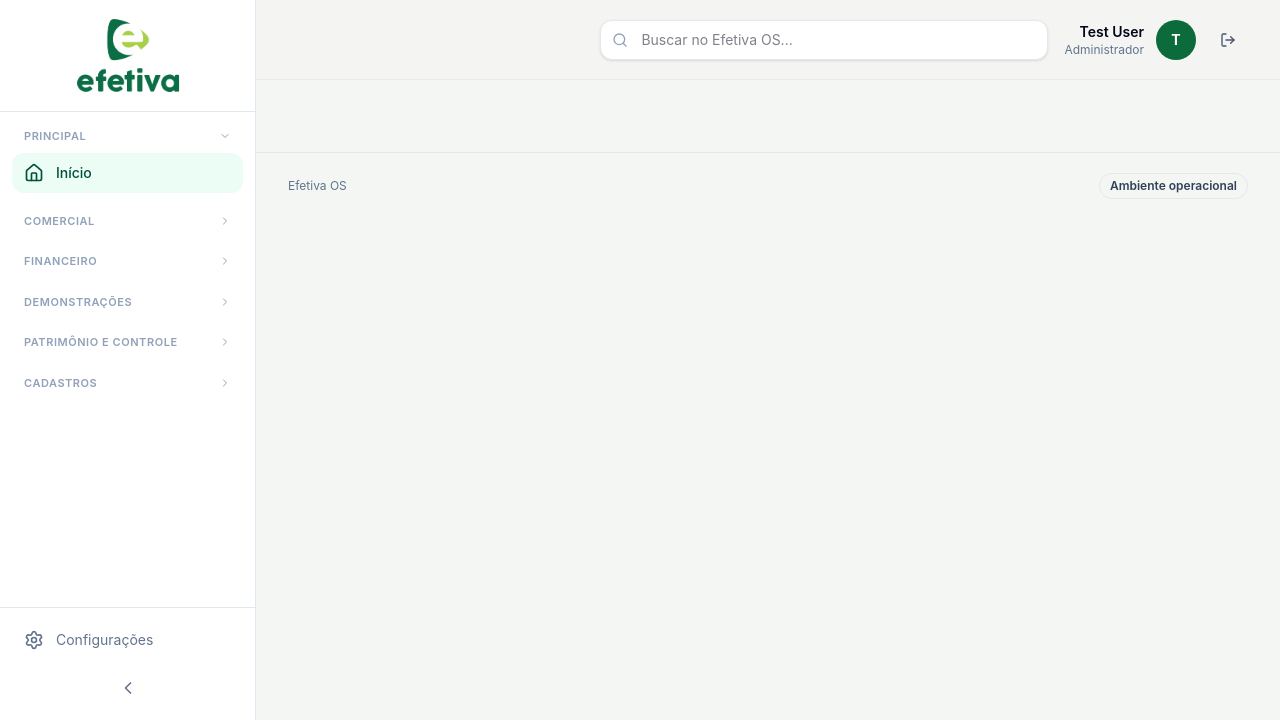
Test: AppShell sidebar › collapses group on header click
The image size is (1280, 720).
Click the button "Financeiro": (128, 261) left=12, top=249, right=243, bottom=274
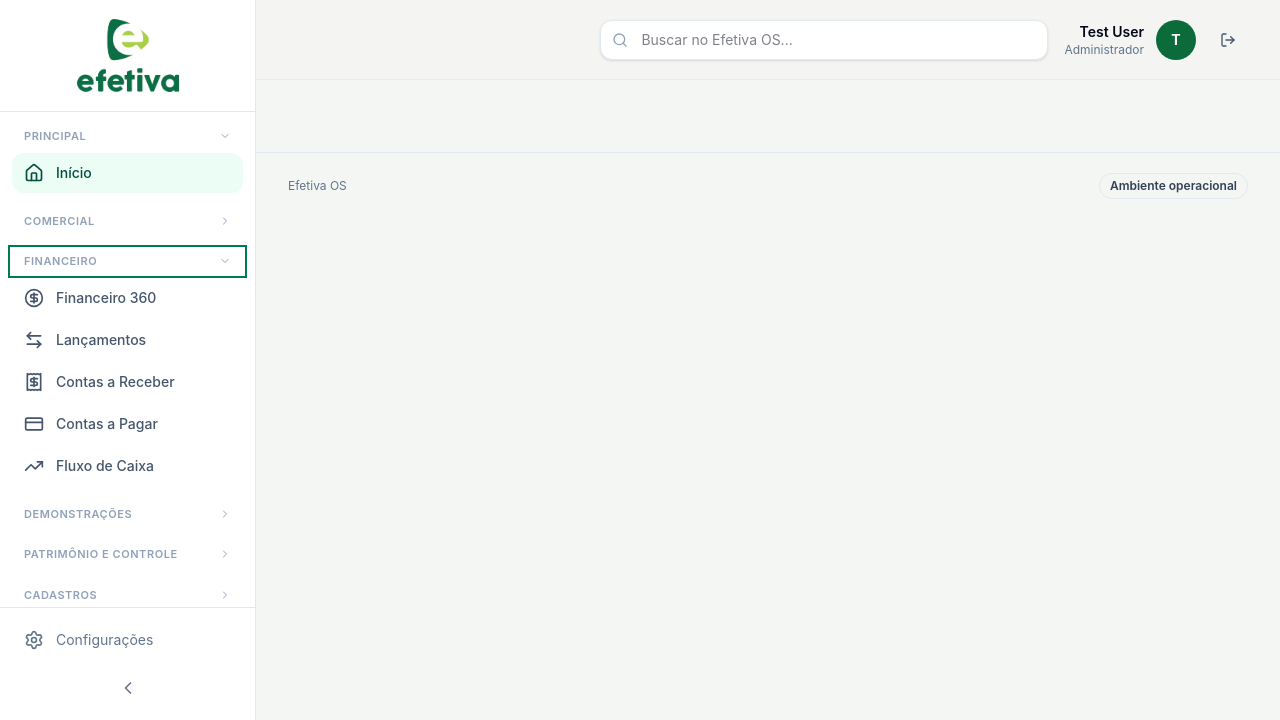
Expected: the text "Lançamentos" is shown, left=56, top=330, right=146, bottom=350
Click the button "Financeiro": (128, 261) left=12, top=249, right=243, bottom=274
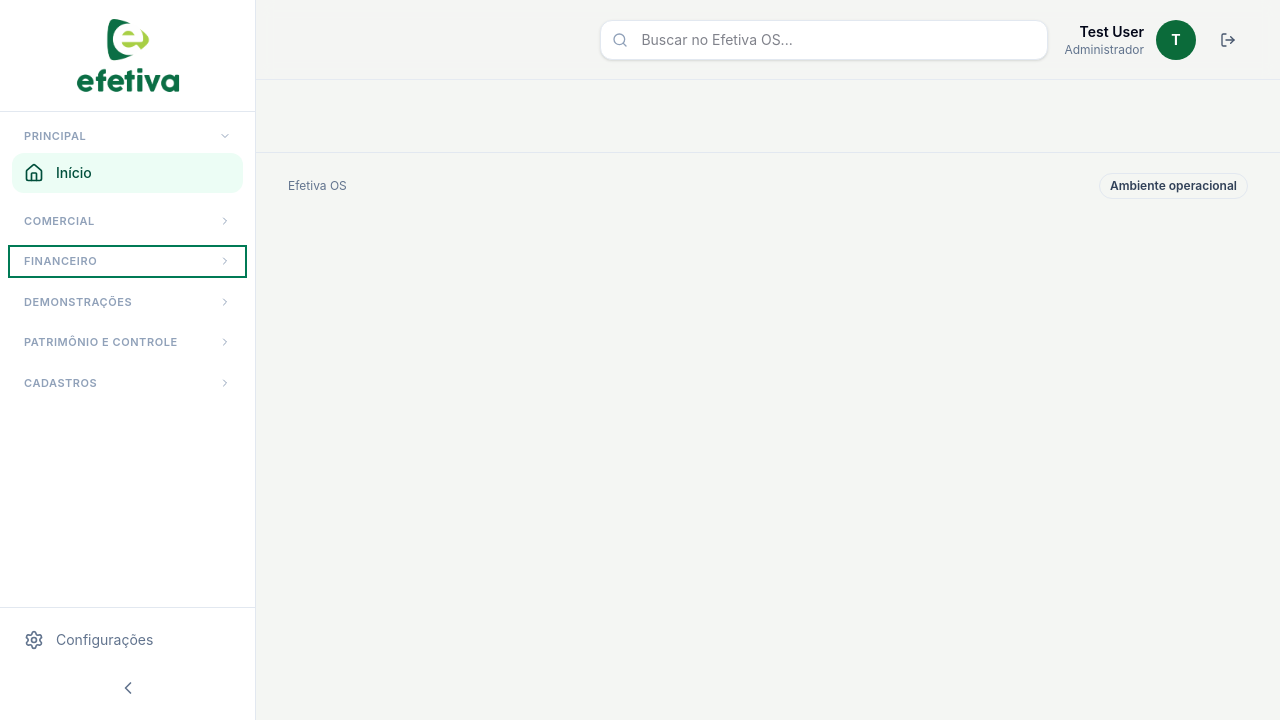
Expected: the link "Lançamentos" is gone
